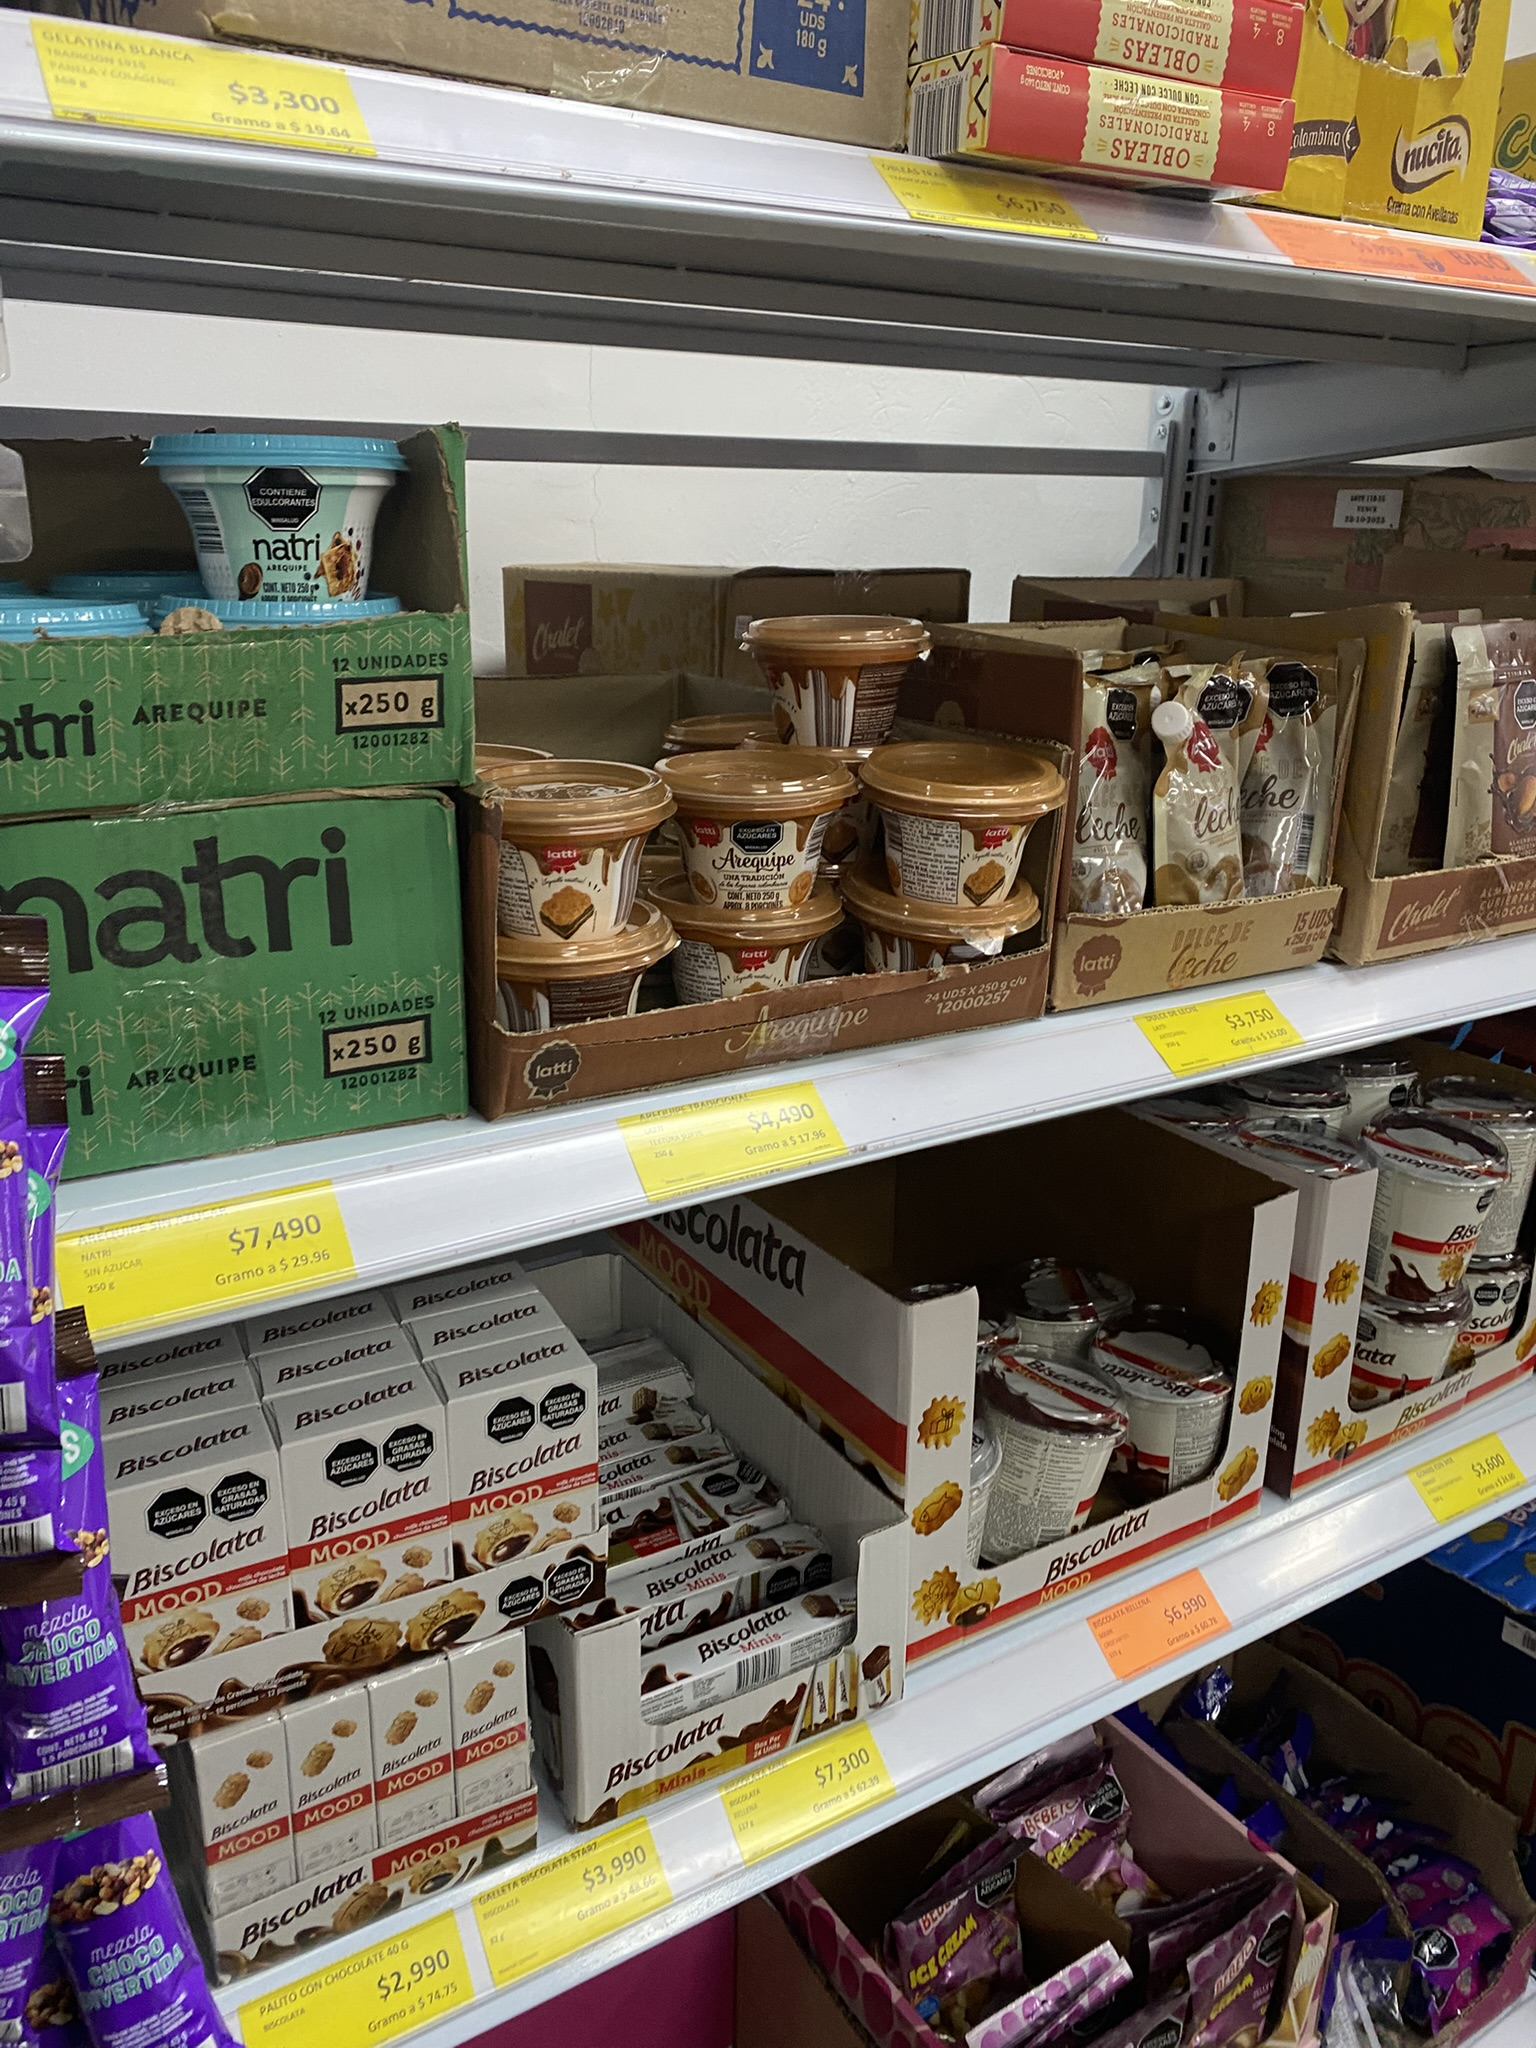Arequipe: (478, 755, 660, 935), (870, 739, 1068, 885), (657, 747, 858, 887), (731, 605, 921, 750)
